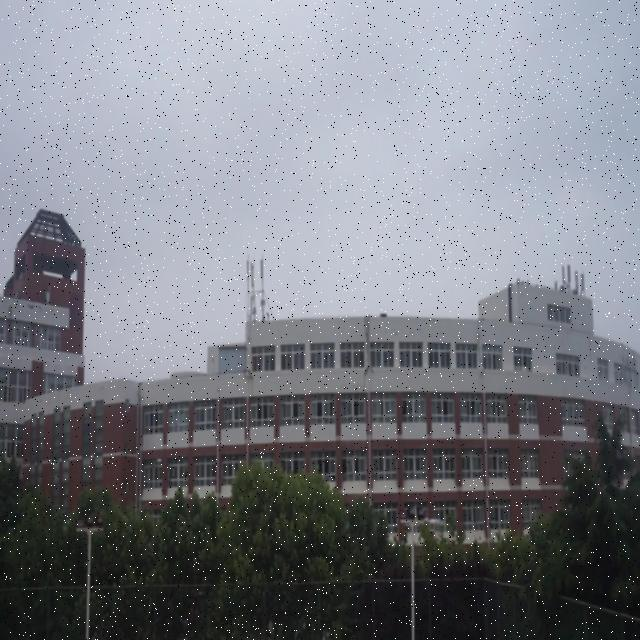UAV: (423, 518, 445, 531)
